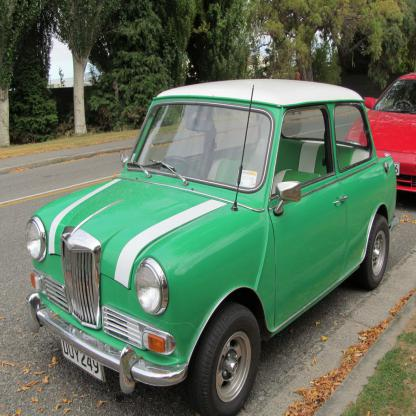Car: (25, 72, 398, 416), (346, 67, 415, 194)
